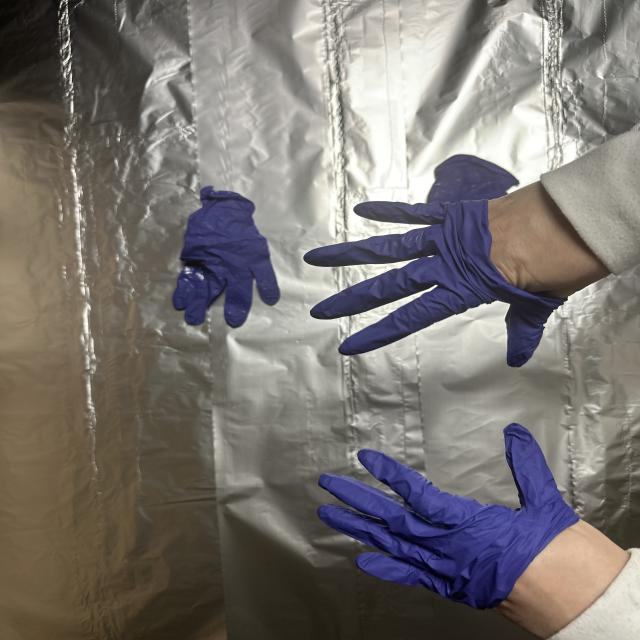glove_partial: (313, 422, 633, 640), (302, 182, 608, 369)
